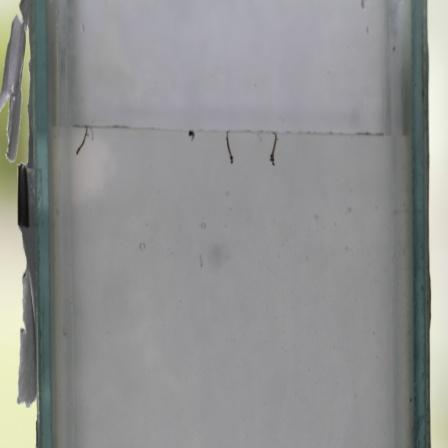Jentik-Nyamuk: (222, 127, 238, 165), (72, 125, 90, 157), (267, 126, 279, 168), (186, 127, 197, 142)
